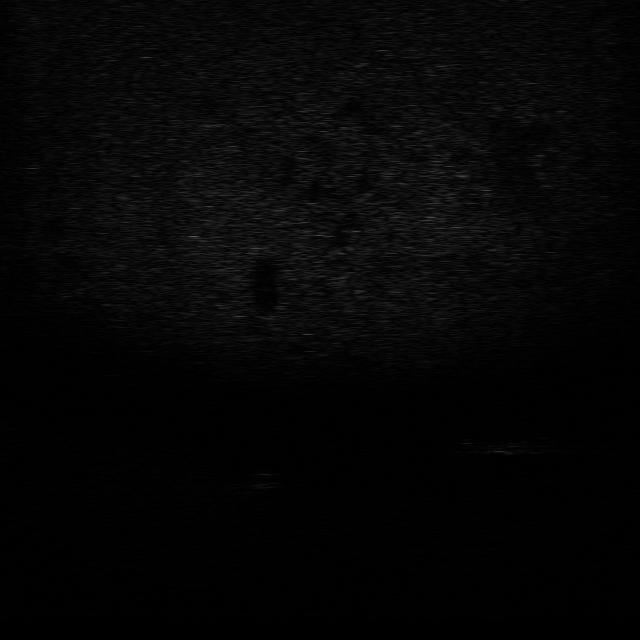ball: (241, 466, 284, 491)
human body: (448, 432, 564, 458)
